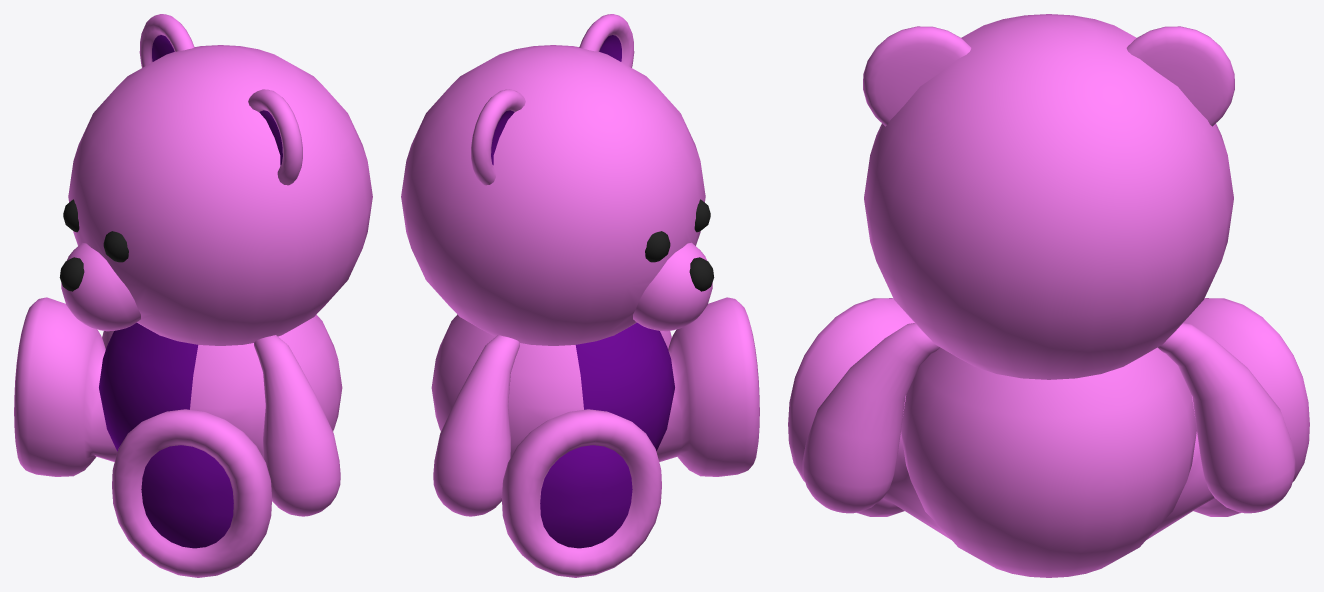
File: TeddyBear_02.fbx
The picture shows the model from 3 angles, left to right: view 1: azimuth 30°, elevation 25°; view 2: azimuth 150°, elevation 25°; view 3: azimuth 270°, elevation 25°; orthographic projection. The views are drawn at different scales.
Parts seen in each view (by area): view 1: TeddyBear_01; view 2: TeddyBear_01; view 3: TeddyBear_01.
Part boxes in pixels (<box>): TeddyBear_01: <box>14,14,372,577</box>; TeddyBear_01: <box>401,14,759,577</box>; TeddyBear_01: <box>788,14,1309,577</box>.
Bounding box in the file's own units: 55.42 × 80.86 × 71.14.
